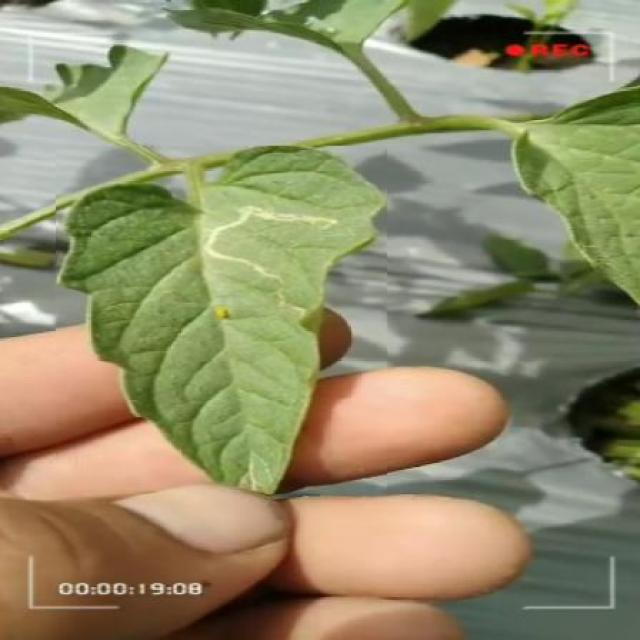Leaf Miner: (56, 146, 388, 495)
